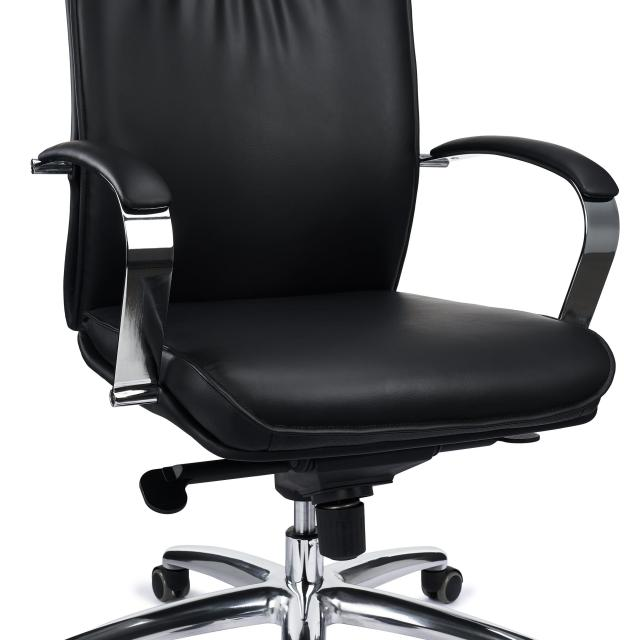chair: (30, 0, 620, 639)
